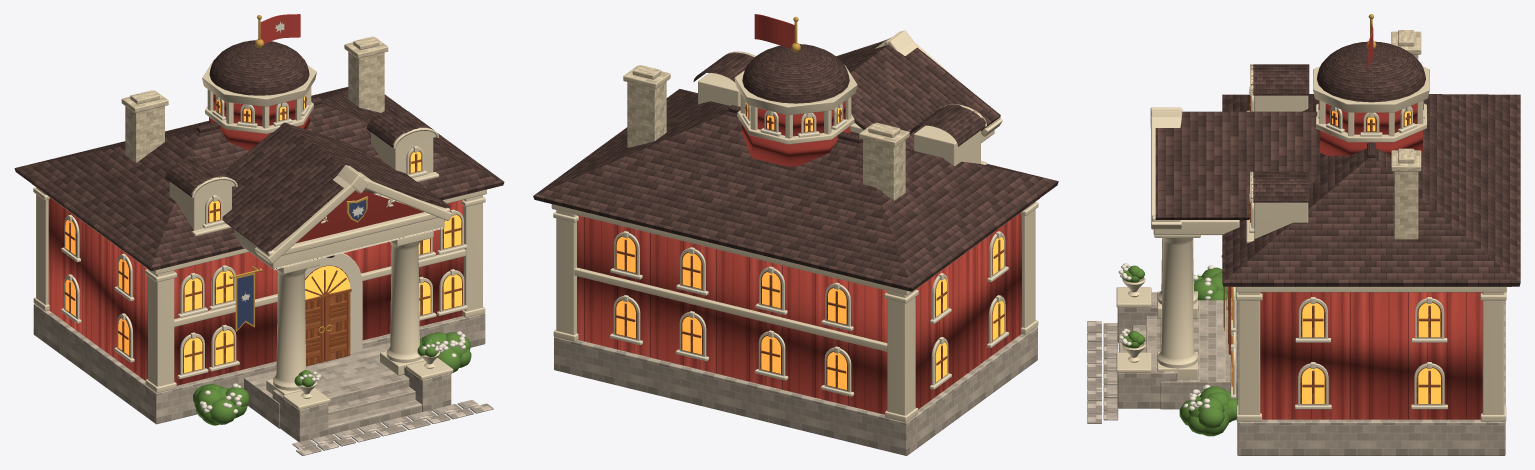
File: building_mayor.glb
3 views of the same model, side by side, from view 1: azimuth 30°, elevation 25°; view 2: azimuth 150°, elevation 25°; view 3: azimuth 270°, elevation 25° (orthographic). The views are drawn at different scales.
Parts seen in each view (by area): view 1: model; view 2: model; view 3: model.
Part boxes in pixels (x1=…): model: x1=14, y1=14, x2=504, y2=455; model: x1=533, y1=14, x2=1058, y2=455; model: x1=1087, y1=14, x2=1520, y2=455.
Size of the model in its own units: 11.5 by 10.17 by 11.18.
17 materials, 7 textured.
